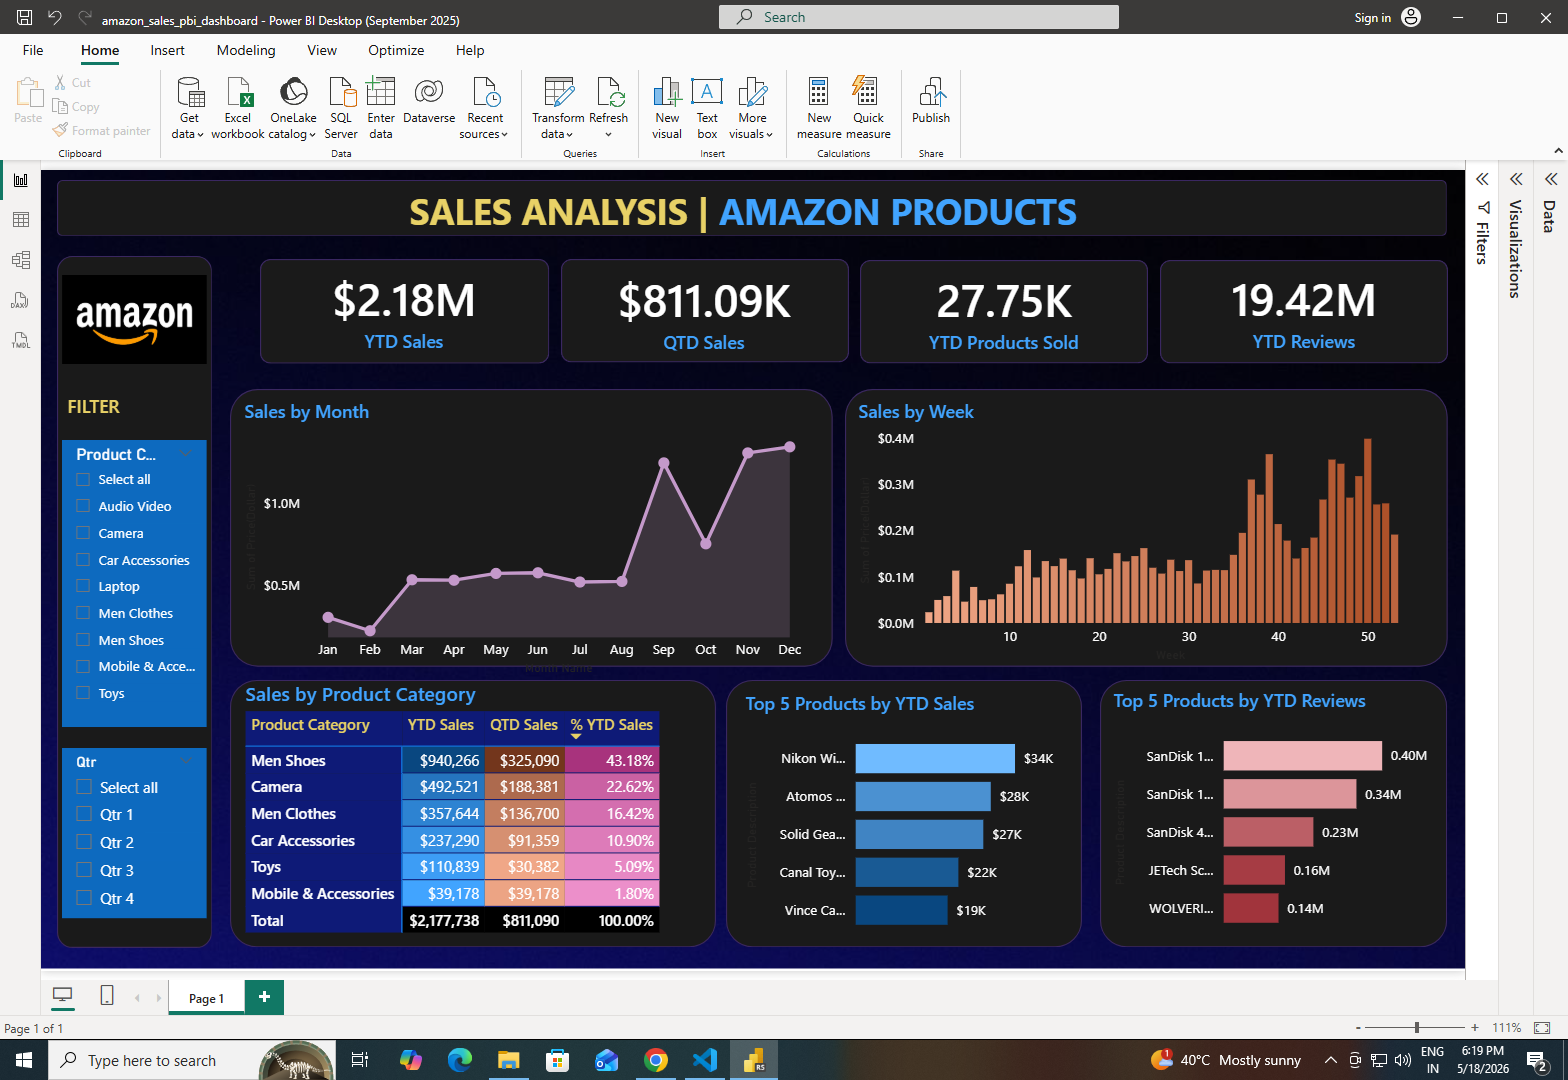

The dashboard page shown, as its layout file describes it:
{"tool":"powerbi","page":{"name":"Page 1","canvas":[1280,720],"ordinal":0},"visuals":[{"type":"shape","box":[14.6,9.3,1249.5,50.5],"z":0},{"type":"shape","box":[196.5,79.7,260,94],"z":0,"group":"g1"},{"type":"textbox","box":[326.6,9.3,667.9,54.4],"z":1000},{"type":"card","fields":{"Values":["Amazon_Data.YTD Sales"]},"box":[216.4,85,219.1,81],"z":1000,"group":"g1"},{"type":"shape","box":[14.6,77,139.4,622],"z":2000},{"type":"shape","box":[466.8,79.7,258.9,92.9],"z":2000,"group":"g1"},{"type":"group","id":"g1","title":"Group 1","box":[196.5,79.7,1067.6,94.3],"z":3000},{"type":"shape","box":[735.9,81,258.9,92.9],"z":3000,"group":"g1"},{"type":"shape","box":[1005.1,81,258.9,92.9],"z":4000,"group":"g1"},{"type":"shape","box":[170,196.5,541.7,249.6],"z":4000},{"type":"card","fields":{"Values":["Amazon_Data.QTD Sales"]},"box":[486,86.3,219.1,81],"z":5000,"group":"g1"},{"type":"areaChart","title":"Sales by Month","fields":{"Category":["Date Table.Month Name"],"Y":["Sum(Amazon_Data.Price(Dollar))"]},"box":[177.9,205.8,515.2,252.3],"z":5000},{"type":"card","fields":{"Values":["Amazon_Data.YTD Products Sold"]},"box":[755.5,86.3,219.1,81],"z":6000,"group":"g1"},{"type":"shape","box":[722.3,196.5,541.7,249.6],"z":6000},{"type":"card","fields":{"Values":["Amazon_Data.YTD Reviews"]},"box":[1025,85,219.1,81],"z":7000,"group":"g1"},{"type":"columnChart","title":"Sales by Week","fields":{"Category":["Date Table.Week"],"Y":["Sum(Amazon_Data.Price(Dollar))"]},"box":[730.3,205.8,515.2,240.3],"z":7000},{"type":"shape","box":[170,458.1,436.8,240.3],"z":8000},{"type":"pivotTable","title":"Sales by Product Category","fields":{"Rows":["Amazon_Data.Product Category"],"Values":["Amazon_Data.YTD Sales1","Amazon_Data.QTD Sales","Amazon_Data.YTD Sales"]},"box":[179.3,458.1,427.6,247],"z":9000},{"type":"shape","box":[616.1,458.1,320,240.3],"z":10000},{"type":"shape","box":[952,458.1,312,240.3],"z":11000},{"type":"clusteredBarChart","title":"Top 5 Products by YTD Sales","fields":{"Category":["Amazon_Data.Product Description"],"Y":["Amazon_Data.YTD Sales"]},"box":[628,468.7,297.4,229.7],"z":12000},{"type":"clusteredBarChart","title":"Top 5 Products by YTD Reviews","fields":{"Category":["Amazon_Data.Product Description"],"Y":["Amazon_Data.YTD Reviews"]},"box":[958.9,465.9,297.4,230.7],"z":13000},{"type":"slicer","fields":{"Values":["Amazon_Data.Product Category"]},"box":[18.6,243,130.1,257.6],"z":14000},{"type":"slicer","fields":{"Values":["Date Table.Qtr"]},"box":[18.6,519.2,130.1,152.7],"z":15000},{"type":"image","box":[9.3,94.3,150,79.7],"z":16000},{"type":"textbox","box":[18.6,196.5,69,38.5],"z":17000}]}

Visuals, with their boxes on the page's 1280x720 design canvas (x1, y1, x2, y2). These are canvas units, not pixel positions in the 1568x1080 screenshot, which may show the page scaled, cropped or inside an application window:
shape: bbox=(15, 9, 1264, 60)
shape: bbox=(196, 80, 456, 174)
textbox: bbox=(327, 9, 994, 64)
card - Amazon_Data.YTD Sales: bbox=(216, 85, 436, 166)
shape: bbox=(15, 77, 154, 699)
shape: bbox=(467, 80, 726, 173)
"Group 1" group: bbox=(196, 80, 1264, 174)
shape: bbox=(736, 81, 995, 174)
shape: bbox=(1005, 81, 1264, 174)
shape: bbox=(170, 196, 712, 446)
card - Amazon_Data.QTD Sales: bbox=(486, 86, 705, 167)
"Sales by Month" areaChart: bbox=(178, 206, 693, 458)
card - Amazon_Data.YTD Products Sold: bbox=(756, 86, 975, 167)
shape: bbox=(722, 196, 1264, 446)
card - Amazon_Data.YTD Reviews: bbox=(1025, 85, 1244, 166)
"Sales by Week" columnChart: bbox=(730, 206, 1246, 446)
shape: bbox=(170, 458, 607, 698)
"Sales by Product Category" pivotTable: bbox=(179, 458, 607, 705)
shape: bbox=(616, 458, 936, 698)
shape: bbox=(952, 458, 1264, 698)
"Top 5 Products by YTD Sales" clusteredBarChart: bbox=(628, 469, 925, 698)
"Top 5 Products by YTD Reviews" clusteredBarChart: bbox=(959, 466, 1256, 697)
slicer - Amazon_Data.Product Category: bbox=(19, 243, 149, 501)
slicer - Date Table.Qtr: bbox=(19, 519, 149, 672)
image: bbox=(9, 94, 159, 174)
textbox: bbox=(19, 196, 88, 235)
